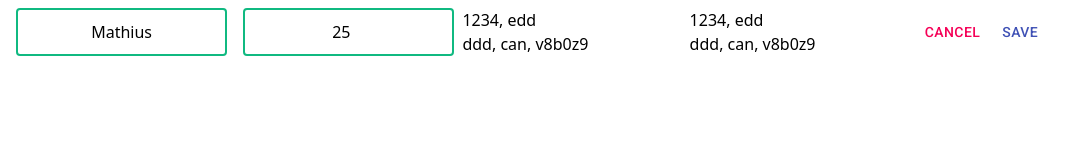
Test: Edit Person › validates that the name is not blank
Clear the field with placeholder "Enter Name" at coordinates (122, 32), box [16, 8, 227, 56]
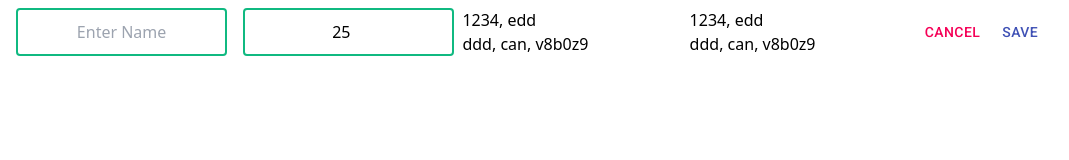
Click the button "Save" at coordinates (1020, 32), box [988, 14, 1052, 50]
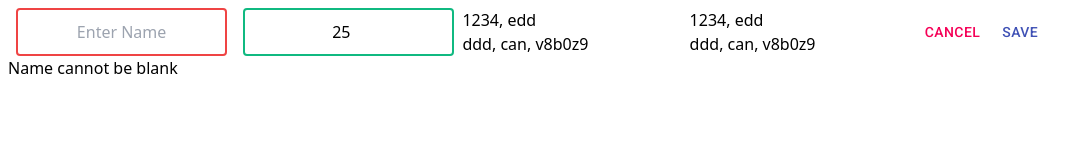
Check: the text "Name cannot be blank" is shown, box [8, 57, 178, 79]
